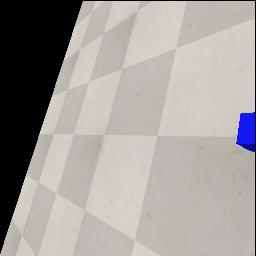box: (236, 112, 255, 152)
